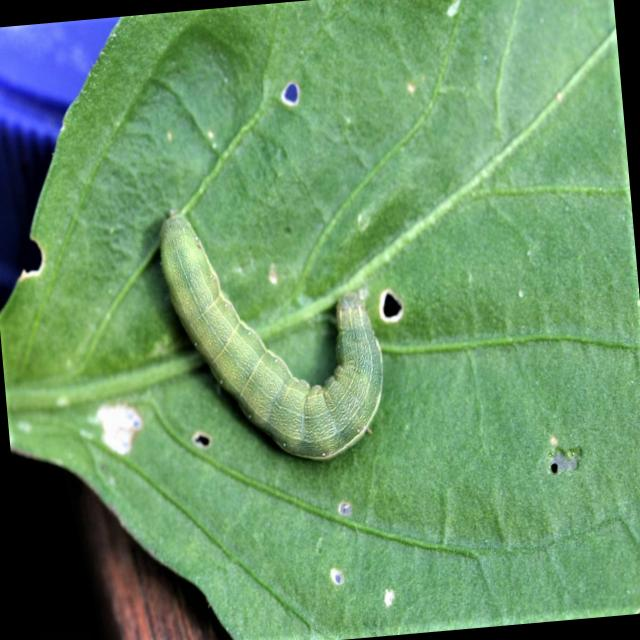Armyworm: (127, 143, 424, 537)
Armyworm_damage: (363, 275, 442, 347), (8, 220, 63, 303), (266, 65, 320, 140), (533, 428, 592, 494), (183, 406, 224, 478), (324, 481, 368, 545), (329, 560, 359, 602)
